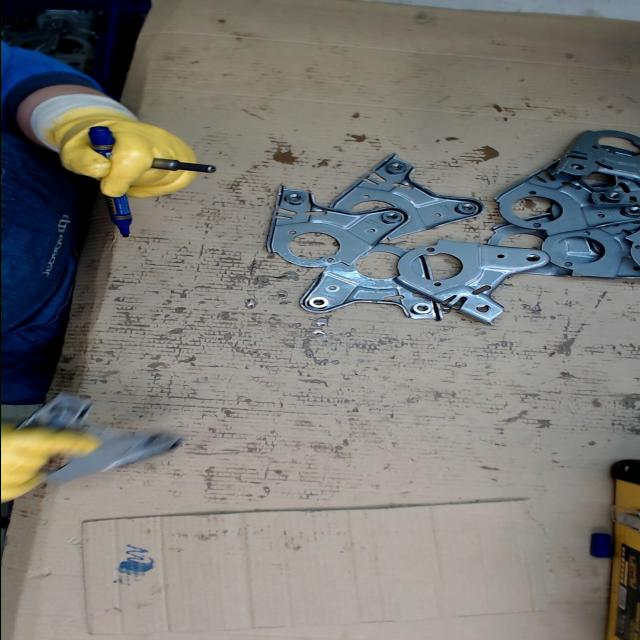hands: (46, 104, 202, 200), (0, 420, 100, 508)
